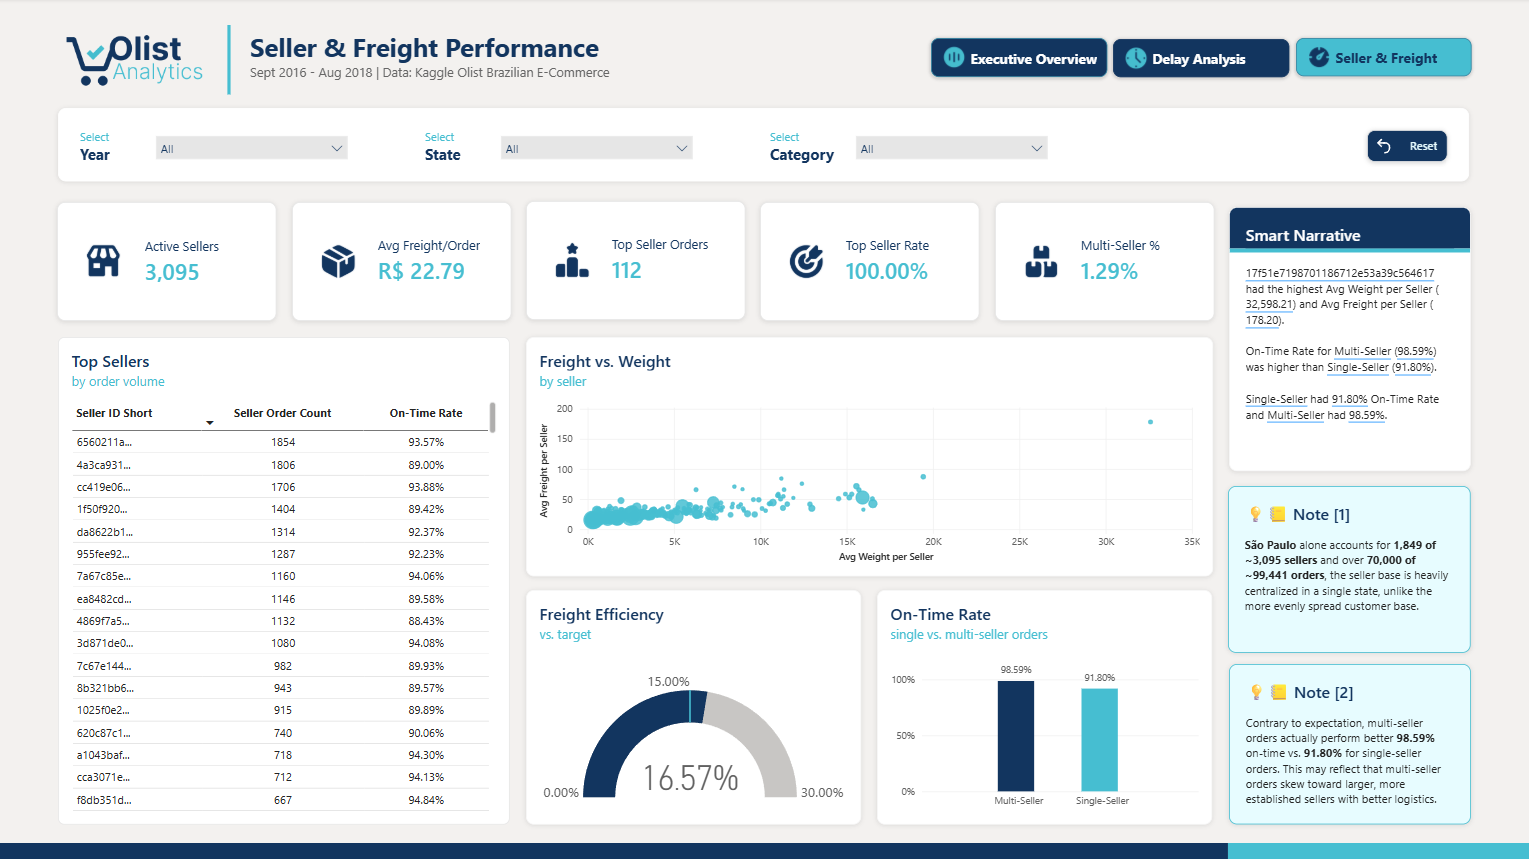

What the dashboard file says about the page in this screenshot:
{"tool":"powerbi","page":{"name":"Seller & Freight","canvas":[1920,1080],"ordinal":2},"visuals":[{"type":"textbox","box":[316,39.3,559,88],"z":0,"group":"g2"},{"type":"textbox","box":[102.9,164.2,90,47.1],"z":0,"group":"g3"},{"type":"textbox","box":[534.5,164.2,90,47.1],"z":0,"group":"g4"},{"type":"textbox","box":[967,164.2,90,47.1],"z":0,"group":"g5"},{"type":"shape","box":[661.1,254.4,275,149.4],"z":0,"group":"g8"},{"type":"shape","box":[74.4,255.6,275,149.4],"z":0,"group":"g6"},{"type":"shape","box":[954.4,255.6,275,149.4],"z":0,"group":"g9"},{"type":"shape","box":[1248.6,255.7,275,149.4],"z":0,"group":"g10"},{"type":"shape","box":[368,256,275,149.4],"z":0,"group":"g7"},{"type":"group","id":"g1","title":"Group 4","box":[0,1058.6,1920,21.4],"z":0},{"type":"shape","box":[0,1058.6,1541.4,21.4],"z":0,"group":"g1"},{"type":"group","id":"g2","title":"Group 5","box":[74.3,34.3,800,94.3],"z":1000},{"type":"image","box":[74.3,39.4,190,77.1],"z":1000,"group":"g2"},{"type":"slicer","fields":{"Values":["dim_date.year"]},"box":[192.5,167.8,250,40],"z":1000,"group":"g3"},{"type":"slicer","fields":{"Values":["dim_customer.customer_state"]},"box":[624.9,167.8,250,40],"z":1000,"group":"g4"},{"type":"slicer","fields":{"Values":["dim_product.category_name_en"]},"box":[1070,167.8,250,40],"z":1000,"group":"g5"},{"type":"cardVisual","fields":{"Data":["_Measures.Top Seller Order Count"]},"box":[753.1,277.4,181,103],"z":1000,"group":"g8"},{"type":"cardVisual","fields":{"Data":["_Measures.Top Seller On-Time Rate"]},"box":[1046.4,278.6,181,103],"z":1000,"group":"g9"},{"type":"cardVisual","fields":{"Data":["_Measures.Multi-Seller Orders Pct"]},"box":[1340.6,278.7,181,103],"z":1000,"group":"g10"},{"type":"cardVisual","fields":{"Data":["_Measures.Active Sellers"]},"box":[168,279,181,103.1],"z":1000,"group":"g6"},{"type":"cardVisual","fields":{"Data":["_Measures.Avg Freight per Order"]},"box":[460,279,181,103],"z":1000,"group":"g7"},{"type":"shape","box":[1541.4,1058.6,378.6,21.4],"z":1000,"group":"g1"},{"type":"shape","box":[279.3,34.3,20,87.3],"z":2000,"group":"g2"},{"type":"shape","box":[75,138.3,1768.3,91.7],"z":2000},{"type":"image","box":[693.6,304.4,50.6,49.4],"z":2000,"group":"g8"},{"type":"image","box":[106.9,305.6,50.6,49.4],"z":2000,"group":"g6"},{"type":"image","box":[986.9,305.6,50.6,49.4],"z":2000,"group":"g9"},{"type":"image","box":[1281.1,305.7,50.6,49.4],"z":2000,"group":"g10"},{"type":"image","box":[400.5,306,50.6,49.4],"z":2000,"group":"g7"},{"type":"group","id":"g3","title":"Group 1","box":[102.9,164.2,339.6,47.1],"z":3000},{"type":"group","id":"g4","title":"Group 2","box":[534.5,164.2,340.4,47.1],"z":4000},{"type":"group","id":"g5","title":"Group 3","box":[967,164.2,353,47.1],"z":5000},{"type":"tableEx","title":"Top Sellers","fields":{"Values":["dim_seller.Seller ID Short","_Measures.Seller Order Count","_Measures.On-Time Rate"]},"box":[75.7,424.3,565.7,611.4],"z":6000},{"type":"scatterChart","title":"Freight vs. Weight","fields":{"Series":["dim_seller.seller_id"],"Size":["_Measures.Seller Order Count"],"X":["_Measures.Avg Weight per Seller"],"Y":["_Measures.Avg Freight per Seller"]},"box":[661.4,424.3,861.4,300],"z":7000},{"type":"gauge","title":"Freight Efficiency","fields":{"Y":["_Measures.Freight % of Order Value"]},"box":[661.4,741.4,420,294.3],"z":8000},{"type":"textbox","title":"💡📒  Note [1]","box":[1541.4,611.4,304.3,208.6],"z":9000},{"type":"actionButton","box":[1169,50.1,220.5,48.9],"z":11000},{"type":"actionButton","box":[1397.3,51.4,220.5,47.6],"z":12000},{"type":"actionButton","box":[1625.7,50,220,48],"z":13000},{"type":"group","id":"g6","title":"Group 6","box":[74.4,255.6,275,149.4],"z":14000},{"type":"group","id":"g7","title":"Group 6","box":[368,256,275,149.4],"z":15000},{"type":"group","id":"g8","title":"Group 6","box":[661.1,254.4,275.6,150],"z":16000},{"type":"group","id":"g9","title":"Group 6","box":[954.4,255.6,275.6,150],"z":17000},{"type":"group","id":"g10","title":"Group 6","box":[1248.6,255.7,275.7,150],"z":18000},{"type":"textbox","title":"💡📒  Note [2]","box":[1542.2,834.4,303.3,201.1],"z":19000},{"type":"actionButton","box":[1715,165,101.2,40],"z":20000},{"type":"clusteredColumnChart","title":"On-Time Rate","fields":{"Category":["bridge_order_seller.Is Multi Seller Order"],"Y":["_Measures.On-Time Rate"]},"box":[1101.4,741.4,420,294.3],"z":21000},{"type":"textbox","title":"Smart Narrative","box":[1542.9,261.4,302.9,331.4],"z":22000}]}

Visuals, with their boxes in screenshot pixels (x1, y1, x2, y2), scaled from the page's 1920x1080 canvas onto the 1529x859 screenshot:
textbox: (252, 31, 697, 101)
textbox: (82, 131, 154, 168)
textbox: (426, 131, 497, 168)
textbox: (770, 131, 842, 168)
shape: (526, 202, 745, 321)
shape: (59, 203, 278, 322)
shape: (760, 203, 979, 322)
shape: (994, 203, 1213, 322)
shape: (293, 204, 512, 322)
"Group 4" group: (0, 842, 1528, 858)
shape: (0, 842, 1228, 858)
"Group 5" group: (59, 27, 696, 102)
image: (59, 31, 210, 93)
slicer - dim_date.year: (153, 133, 352, 165)
slicer - dim_customer.customer_state: (498, 133, 697, 165)
slicer - dim_product.category_name_en: (852, 133, 1051, 165)
cardVisual - _Measures.Top Seller Order Count: (600, 221, 744, 303)
cardVisual - _Measures.Top Seller On-Time Rate: (833, 222, 977, 304)
cardVisual - _Measures.Multi-Seller Orders Pct: (1068, 222, 1212, 304)
cardVisual - _Measures.Active Sellers: (134, 222, 278, 304)
cardVisual - _Measures.Avg Freight per Order: (366, 222, 510, 304)
shape: (1228, 842, 1528, 858)
shape: (222, 27, 238, 97)
shape: (60, 110, 1468, 183)
image: (552, 242, 593, 281)
image: (85, 243, 125, 282)
image: (786, 243, 826, 282)
image: (1020, 243, 1061, 282)
image: (319, 243, 359, 283)
"Group 1" group: (82, 131, 352, 168)
"Group 2" group: (426, 131, 697, 168)
"Group 3" group: (770, 131, 1051, 168)
"Top Sellers" tableEx: (60, 337, 511, 824)
"Freight vs. Weight" scatterChart: (527, 337, 1213, 576)
"Freight Efficiency" gauge: (527, 590, 861, 824)
"💡📒  Note [1]" textbox: (1228, 486, 1470, 652)
actionButton: (931, 40, 1107, 79)
actionButton: (1113, 41, 1288, 79)
actionButton: (1295, 40, 1470, 78)
"Group 6" group: (59, 203, 278, 322)
"Group 6" group: (293, 204, 512, 322)
"Group 6" group: (526, 202, 746, 322)
"Group 6" group: (760, 203, 980, 323)
"Group 6" group: (994, 203, 1214, 323)
"💡📒  Note [2]" textbox: (1228, 664, 1470, 824)
actionButton: (1366, 131, 1446, 163)
"On-Time Rate" clusteredColumnChart: (877, 590, 1212, 824)
"Smart Narrative" textbox: (1229, 208, 1470, 471)
